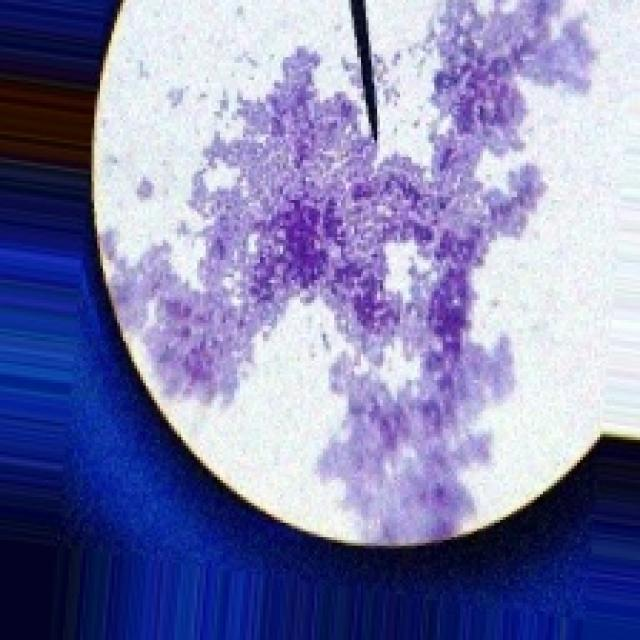Rod_bacteria: (100, 0, 603, 543)
